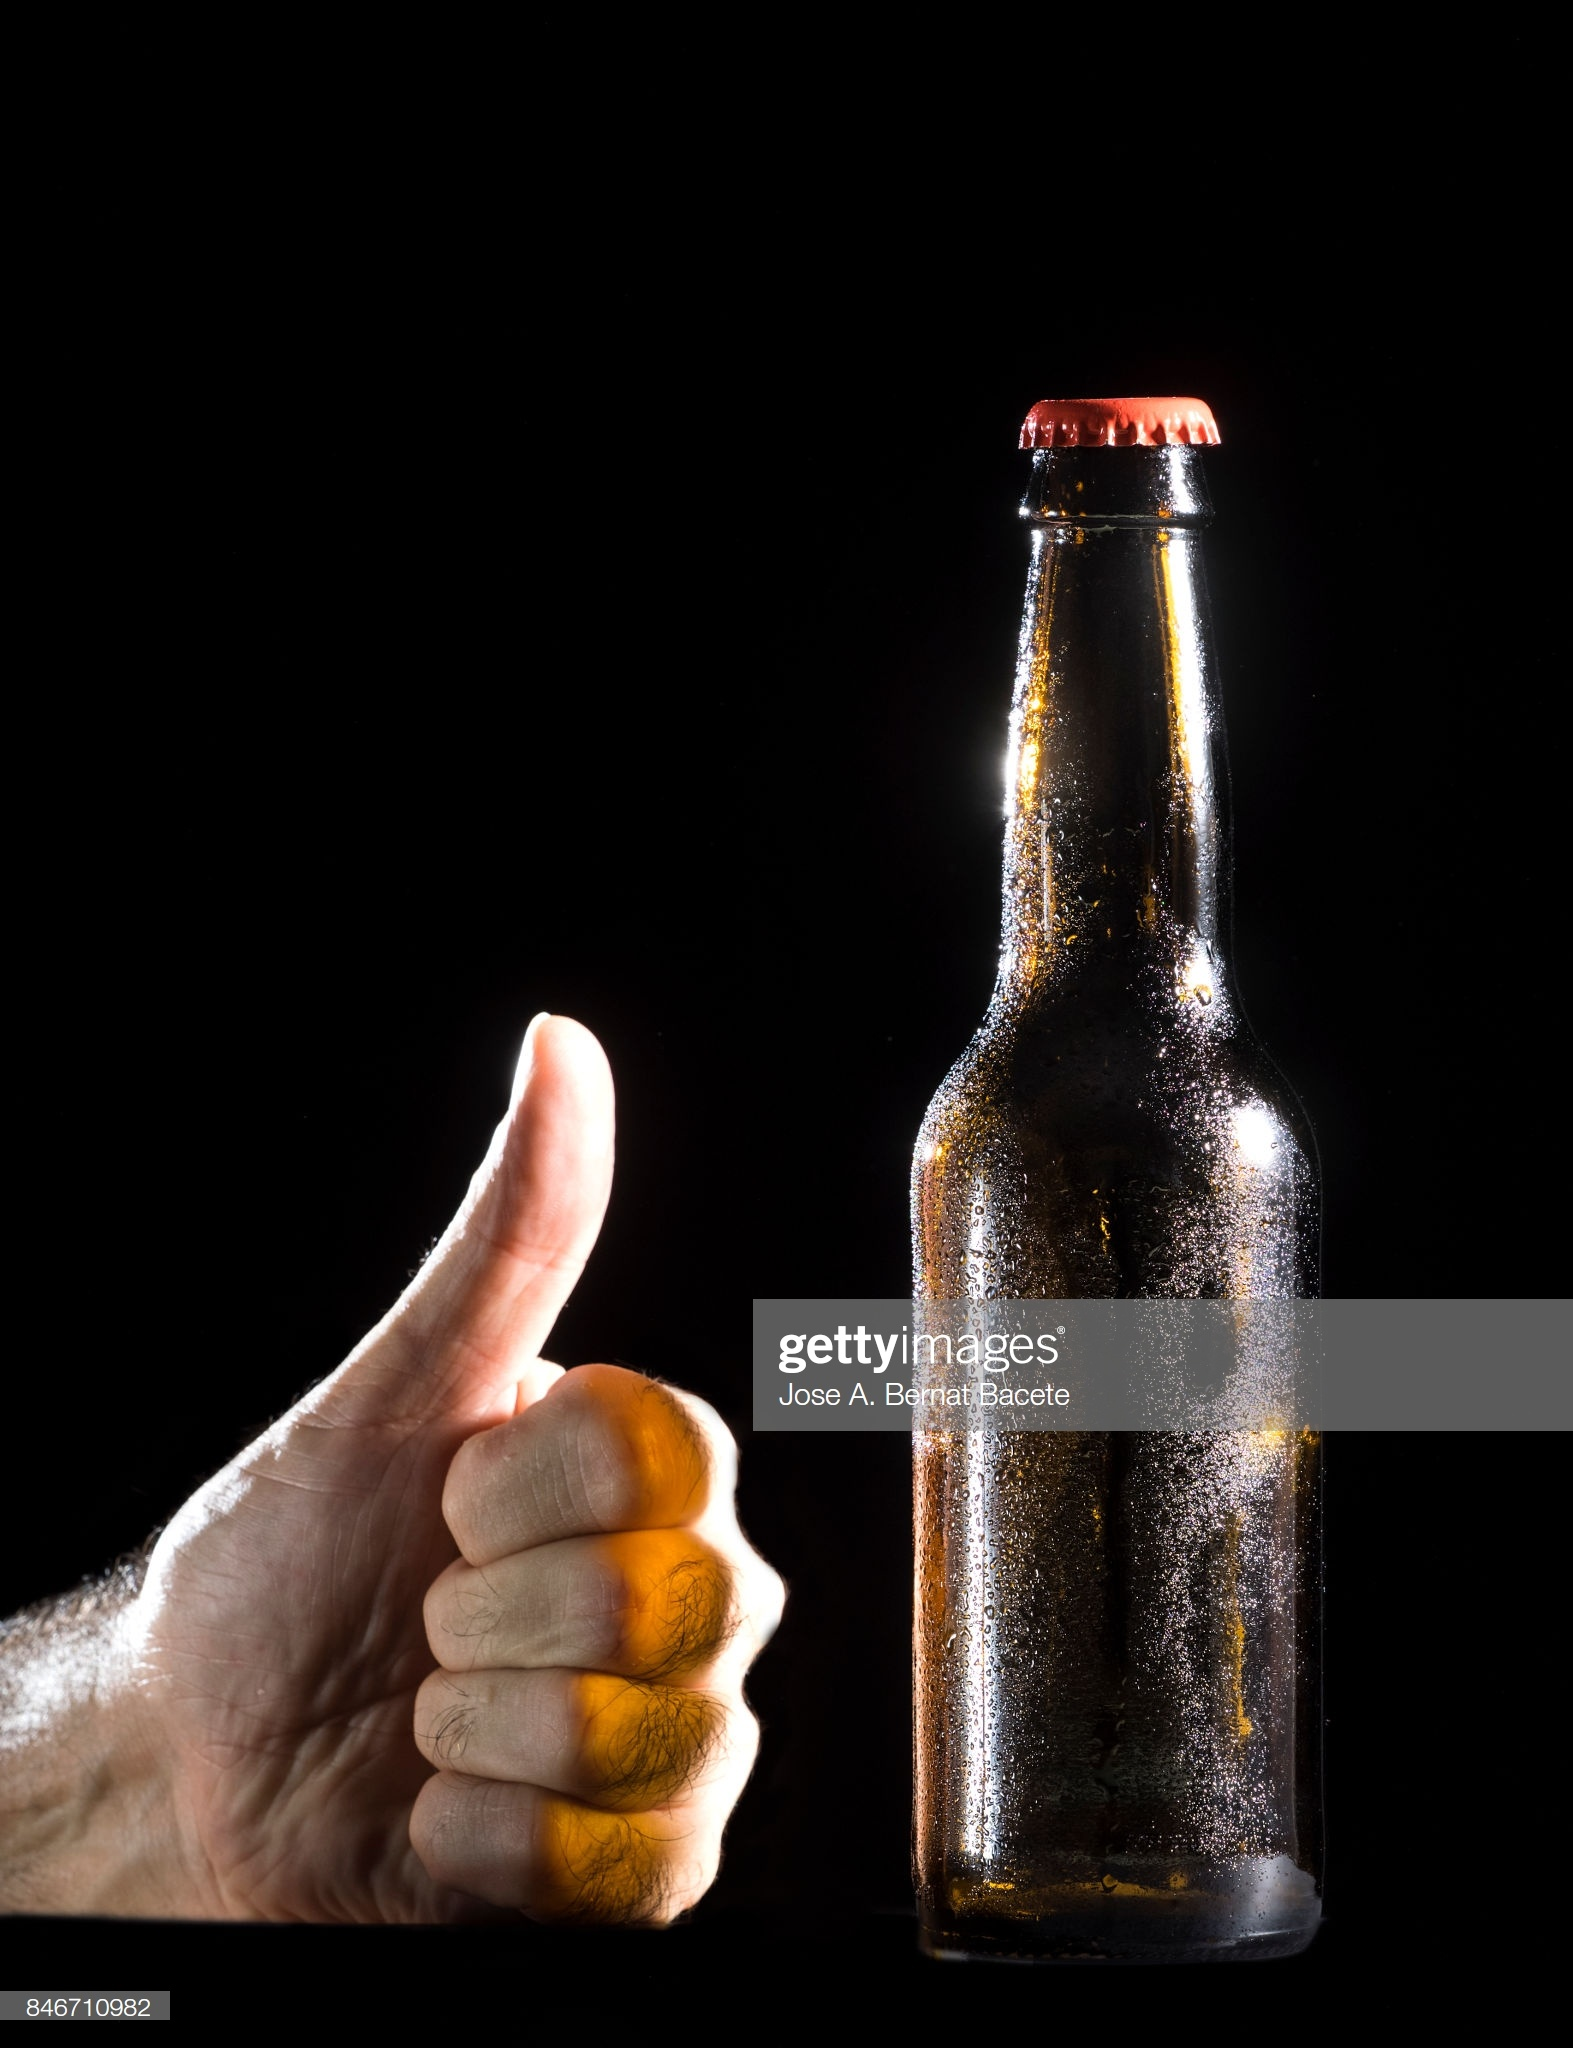beerBottle: (887, 383, 1332, 1960)
